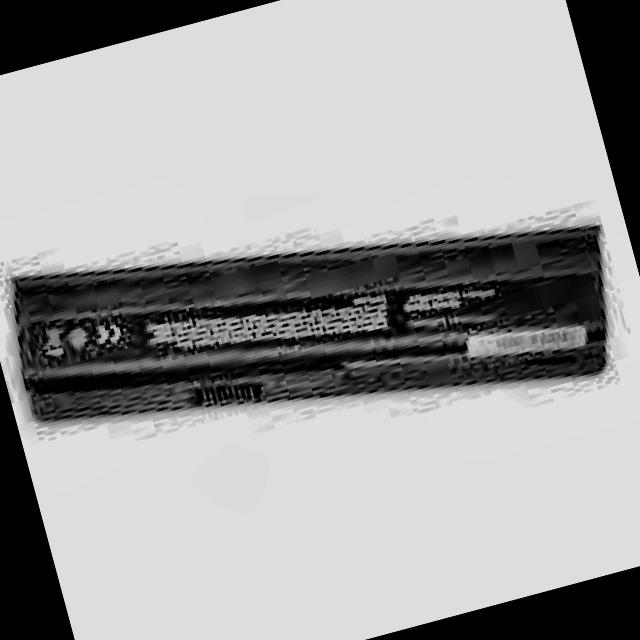Battery: (0, 133, 633, 516)
